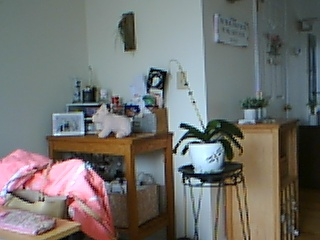piggy: (91, 103, 134, 140)
